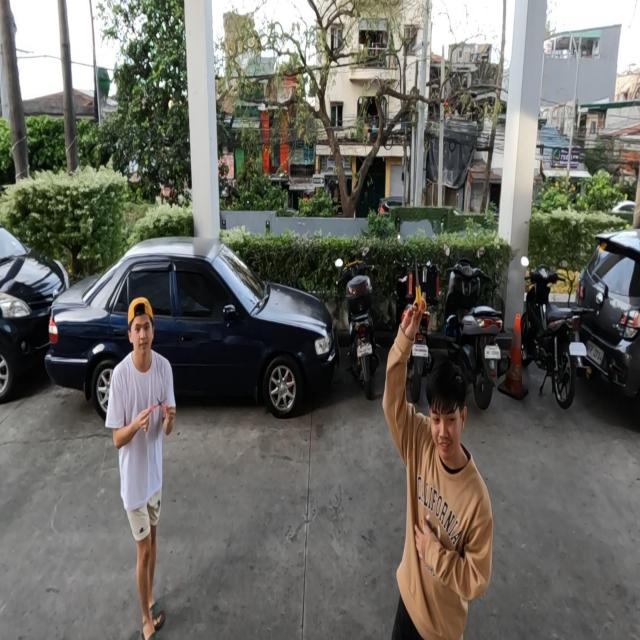scissor: (412, 255, 426, 312), (149, 397, 168, 417)
